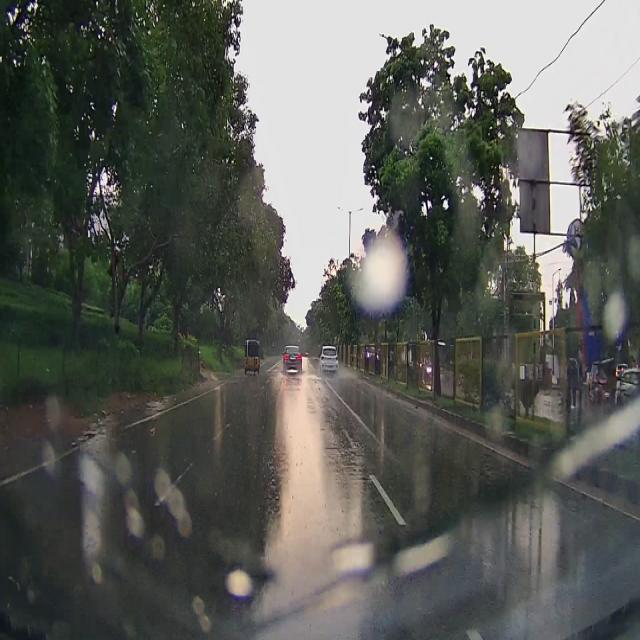car ahead at: (317, 334, 343, 379), (278, 338, 306, 377)
